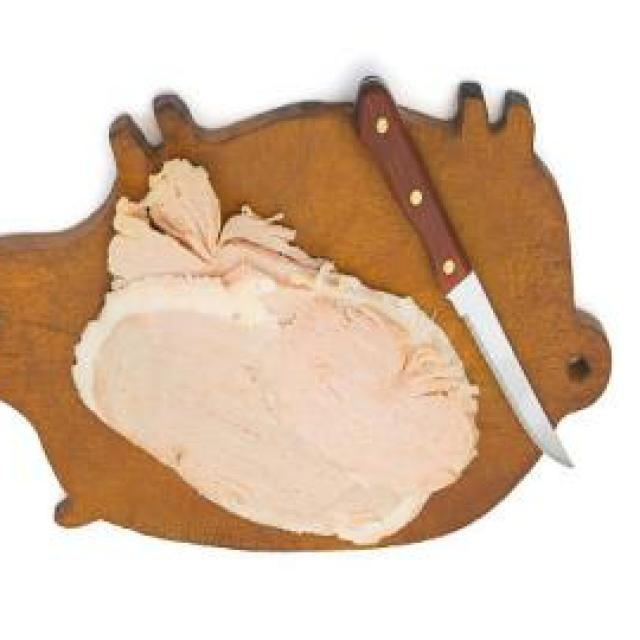knife: (351, 64, 577, 474)
